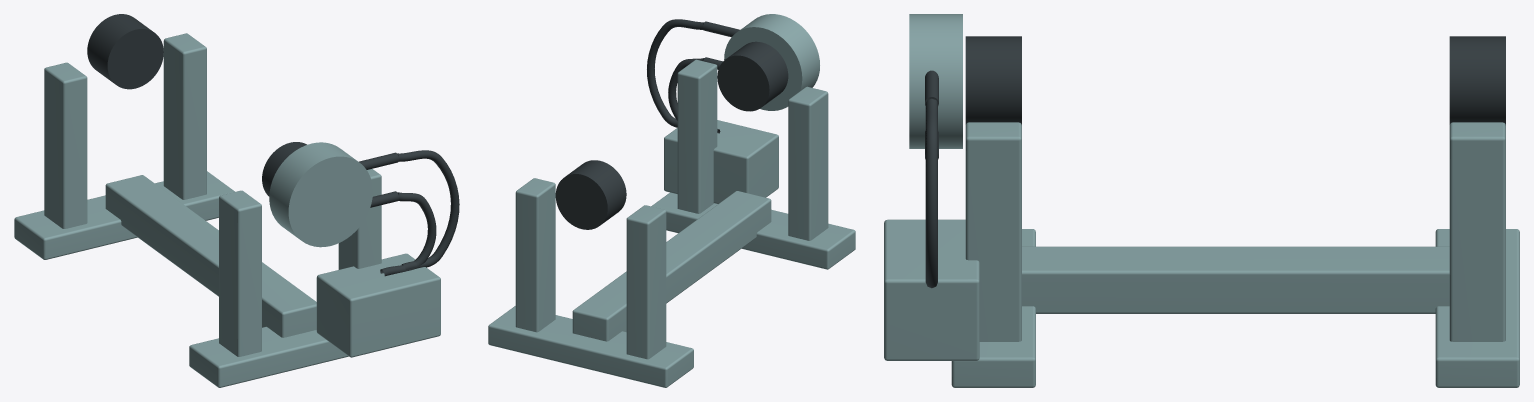
The model's file is trawl_winch.glb.
3 views of the same model, side by side, from view 1: azimuth 30°, elevation 25°; view 2: azimuth 150°, elevation 25°; view 3: azimuth 270°, elevation 25° (orthographic). The views are drawn at different scales.
Visible parts, largest first — view 1: Hydraulic manifold, Base tie, Hydraulic motor, Bearing pedestal.002, Bearing pedestal.003, Bearing pedestal, Bolted foot.001, Bolted foot, Bearing housing.001, Bearing pedestal.001, Flexible hydraulic hose.001, Flexible hydraulic hose (+2 smaller); view 2: Base tie, Bolted foot.001, Bearing pedestal.002, Bearing pedestal.003, Bearing pedestal, Bearing pedestal.001, Hydraulic manifold, Bolted foot, Hydraulic motor, Bearing housing.001, Bearing housing, Flexible hydraulic hose.001 (+2 smaller); view 3: Base tie, Bearing pedestal.003, Hydraulic manifold, Bearing pedestal.001, Bolted foot.001, Hydraulic motor, Bearing housing.001, Bearing housing, Bolted foot, Flexible hydraulic hose.001.
Part boxes in pixels (x1=…): Hydraulic manifold: x1=316, y1=253, x2=440, y2=357; Base tie: x1=105, y1=175, x2=316, y2=337; Hydraulic motor: x1=269, y1=142, x2=372, y2=247; Bearing pedestal.002: x1=44, y1=62, x2=87, y2=228; Bearing pedestal.003: x1=163, y1=33, x2=206, y2=199; Bearing pedestal: x1=219, y1=190, x2=261, y2=356; Bolted foot.001: x1=14, y1=171, x2=234, y2=259; Bolted foot: x1=189, y1=326, x2=348, y2=387; Bearing housing.001: x1=87, y1=14, x2=163, y2=89; Bearing pedestal.001: x1=338, y1=169, x2=381, y2=269; Flexible hydraulic hose.001: x1=397, y1=150, x2=459, y2=269; Flexible hydraulic hose: x1=380, y1=192, x2=436, y2=276; Base tie: x1=572, y1=191, x2=771, y2=341; Bolted foot.001: x1=488, y1=306, x2=693, y2=387; Bearing pedestal.002: x1=626, y1=205, x2=666, y2=359; Bearing pedestal.003: x1=515, y1=178, x2=555, y2=332; Bearing pedestal: x1=788, y1=86, x2=828, y2=240; Bearing pedestal.001: x1=677, y1=59, x2=717, y2=213; Hydraulic manifold: x1=664, y1=120, x2=778, y2=203; Bolted foot: x1=651, y1=192, x2=855, y2=269; Hydraulic motor: x1=724, y1=14, x2=819, y2=110; Bearing housing.001: x1=555, y1=160, x2=626, y2=229; Bearing housing: x1=717, y1=41, x2=788, y2=111; Flexible hydraulic hose.001: x1=647, y1=19, x2=704, y2=127; Base tie: x1=1022, y1=246, x2=1449, y2=313; Bearing pedestal.003: x1=1449, y1=122, x2=1505, y2=341; Hydraulic manifold: x1=884, y1=219, x2=979, y2=360; Bearing pedestal.001: x1=965, y1=122, x2=1021, y2=341; Bolted foot.001: x1=1435, y1=229, x2=1519, y2=387; Hydraulic motor: x1=909, y1=14, x2=962, y2=148; Bearing housing.001: x1=1449, y1=36, x2=1505, y2=125; Bearing housing: x1=965, y1=36, x2=1021, y2=124; Bolted foot: x1=951, y1=229, x2=1035, y2=387; Flexible hydraulic hose.001: x1=925, y1=98, x2=937, y2=288.
Size of the model in its own units: 1.33 by 1.19 by 2.26.
